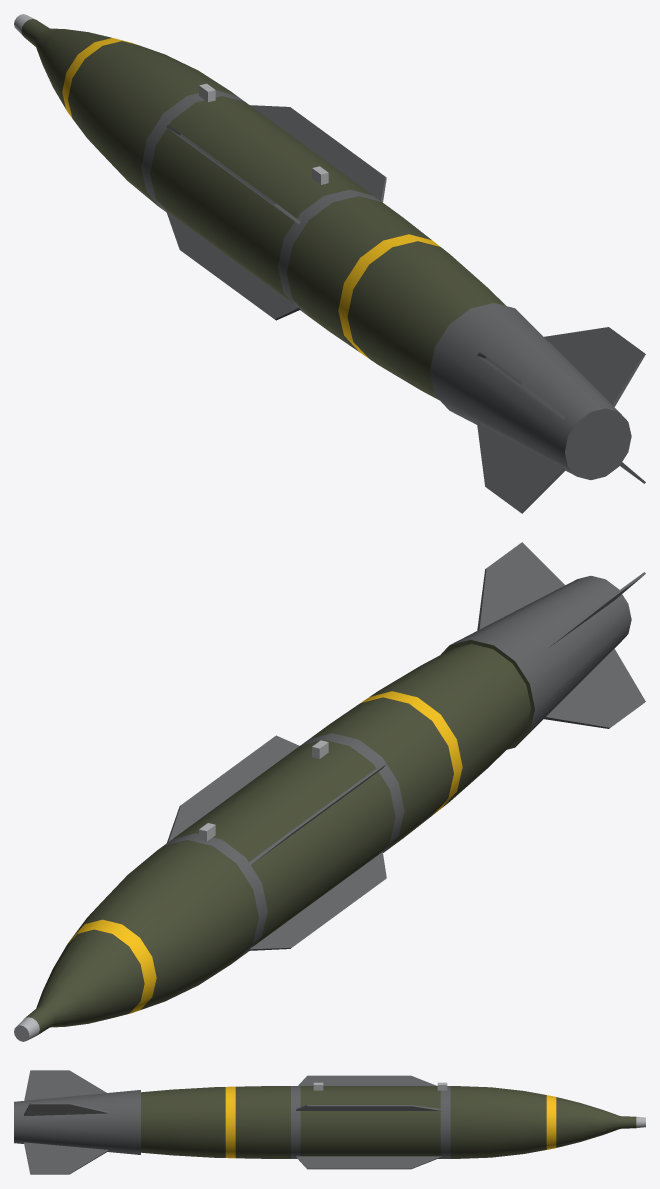
Rendered from gbu31.glb.
The picture shows the model from 3 angles, top to bottom: view 1: azimuth 30°, elevation 25°; view 2: azimuth 150°, elevation 25°; view 3: azimuth 270°, elevation 25°; orthographic projection. The views are drawn at different scales.
Visible parts, largest first — view 1: gbu31; view 2: gbu31; view 3: gbu31.
Boxes of the visible parts, x1,y1,x2,y2 form: gbu31: (14, 14, 645, 513); gbu31: (14, 542, 645, 1041); gbu31: (14, 1070, 645, 1174).
Bounding box in the file's own units: 0.4865 × 0.5052 × 3.88.
